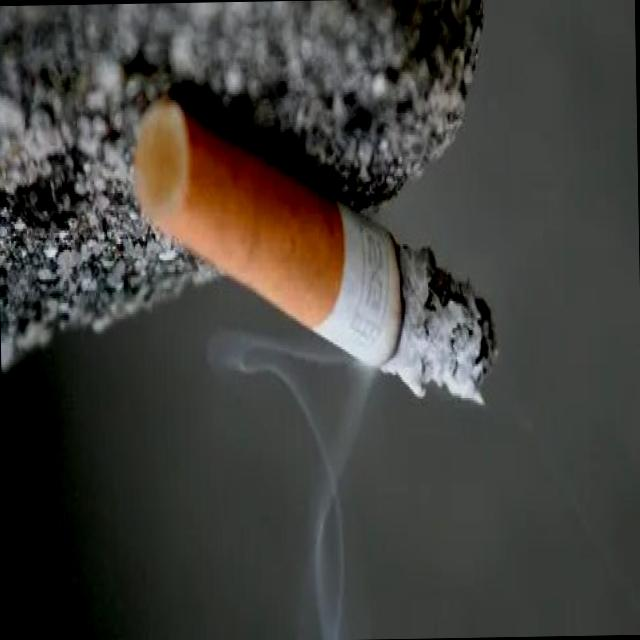cigarette: (130, 87, 500, 416)
